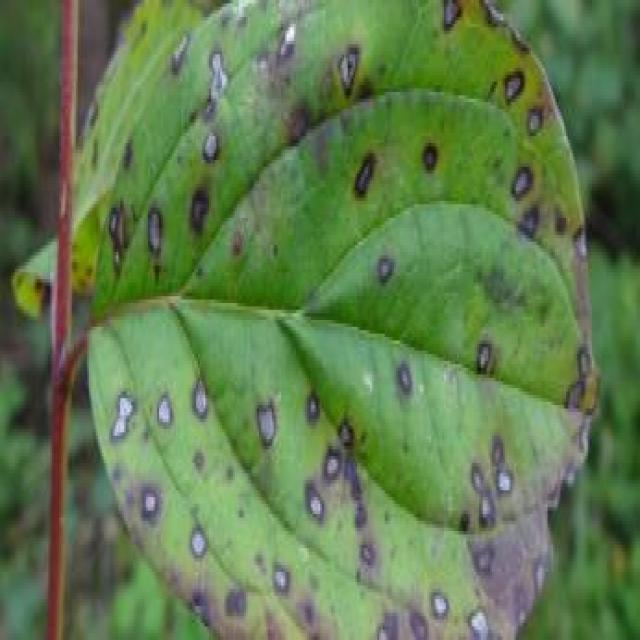Septoria: (87, 0, 598, 640)
